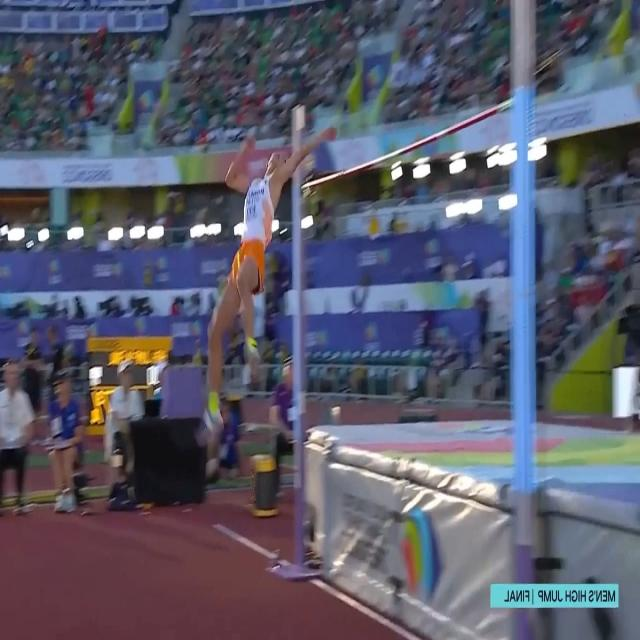jump: (195, 124, 339, 452)
